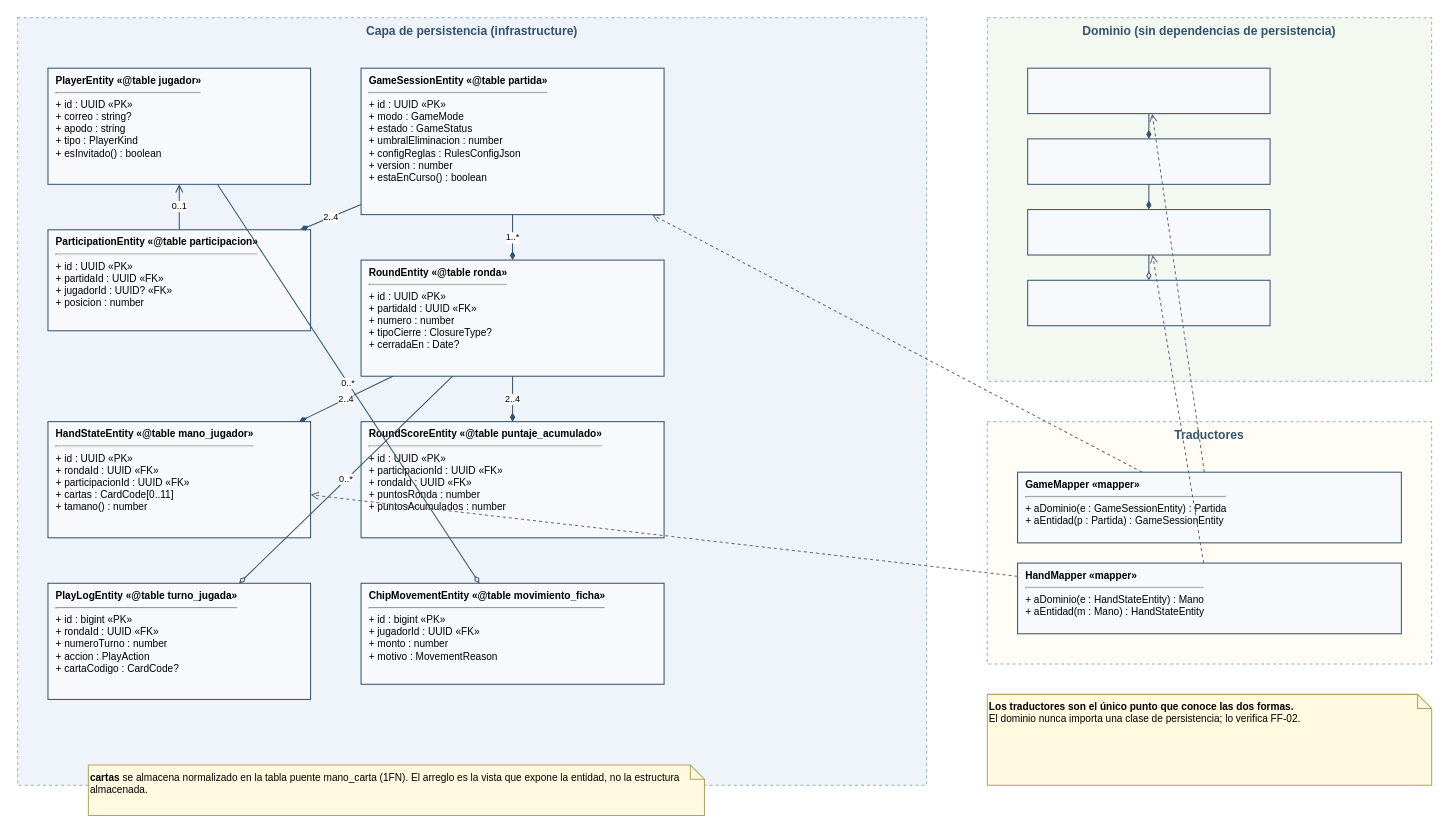
This 1449x833 diagram has some shape labels left out. Here are the shapes that lost their labels. From the top down, the centre of each, then its label:
At point 1148,90: "Partida «aggregate root»".
At point 1148,161: "Ronda".
At point 1148,232: "Mano".
At point 1148,302: "Carta «value object»".
